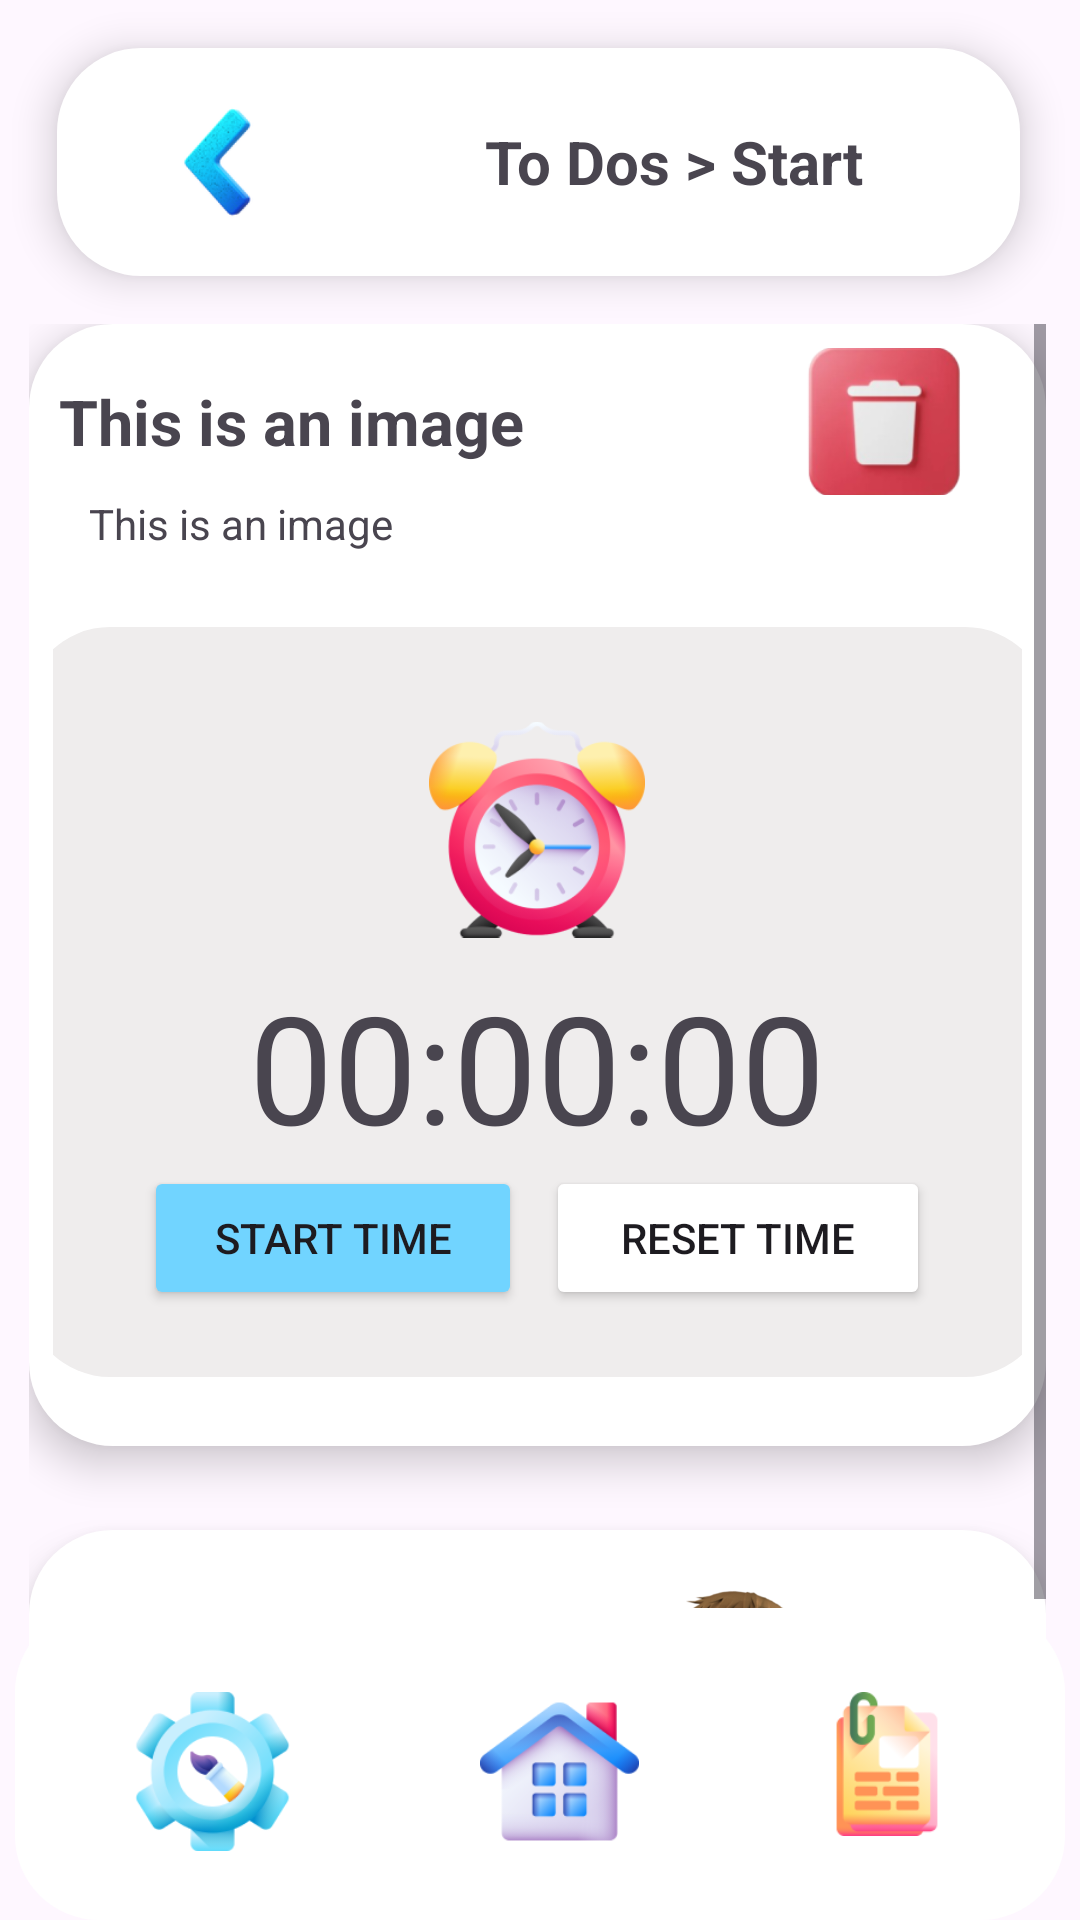

Named icons in this screenshot (1080×1920) and their bounding boxes, (x1, y1, x2, y2):
alarm: (429, 742, 645, 938)
brief: (836, 1692, 938, 1836)
customization: (136, 1692, 289, 1851)
house: (480, 1702, 639, 1841)
